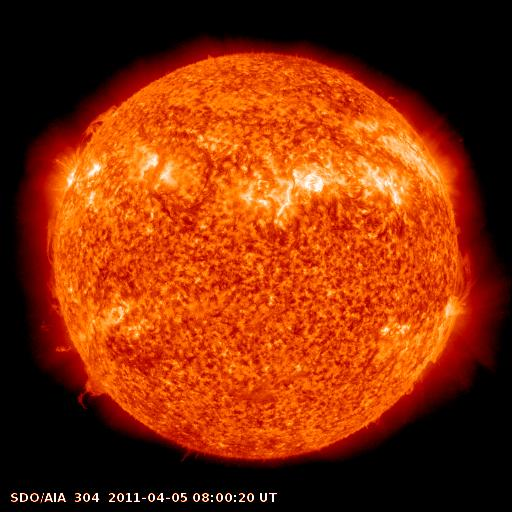prominence: (40, 268, 82, 356), (75, 102, 128, 152), (450, 248, 487, 306), (70, 367, 112, 415), (33, 207, 64, 265)
